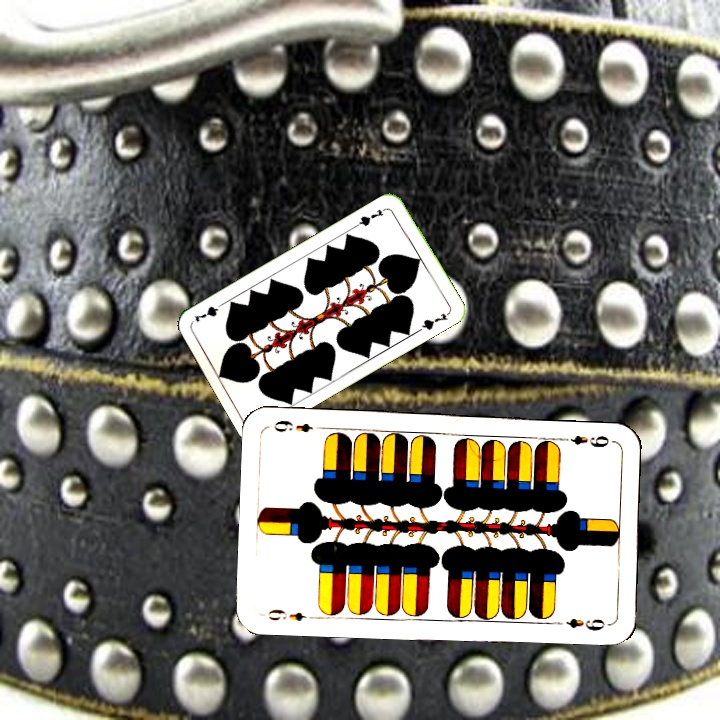E9: (557, 431, 616, 450), (264, 604, 319, 624)
G7: (353, 204, 390, 229)
